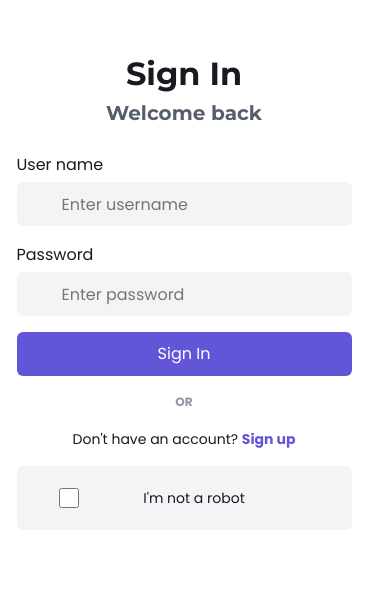
Test: Login › shows validation errors and does not submit when fields are empty
Click the button "Sign In".
click(184, 354)  # box 16,332 -> 352,376
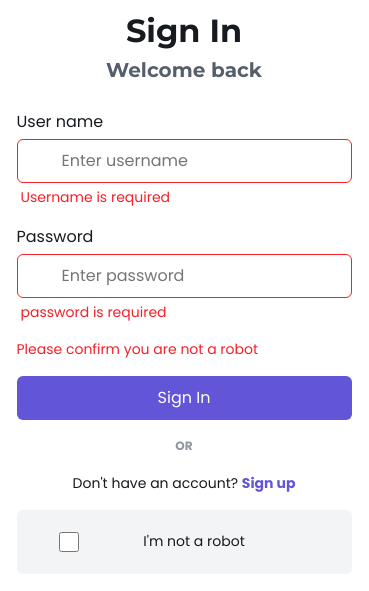
Check: the text "Username is required" is shown, box 20,186 -> 170,206
Check: the text "password is required" is shown, box 20,302 -> 166,322
